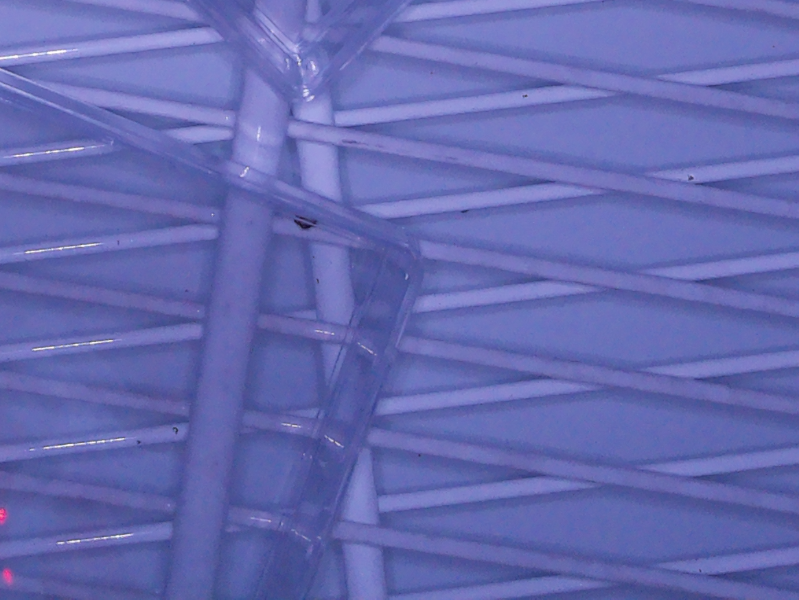plate: (1, 67, 423, 600), (180, 1, 414, 106)
